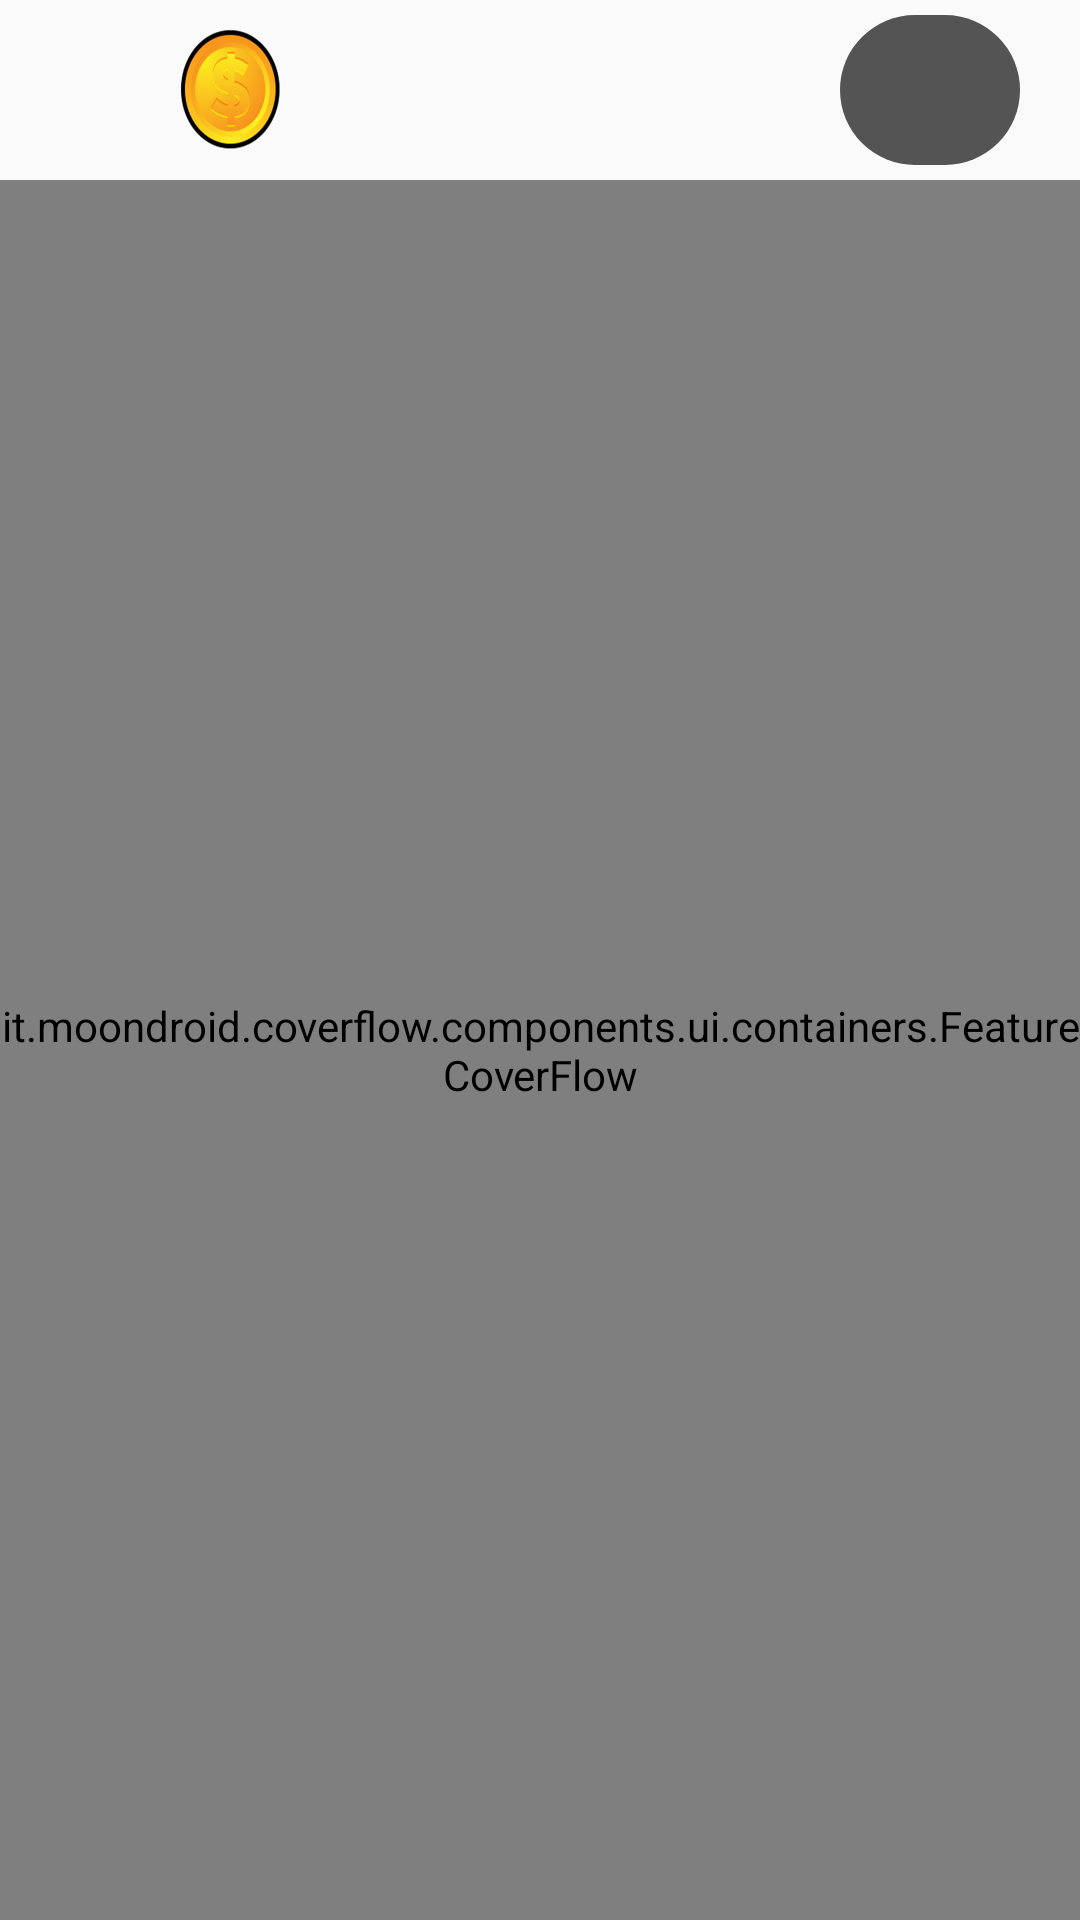

Icon click points for this 1080×1920 phone screenshot, format (x=x, y=y):
goldentoken: (x=230, y=89)
